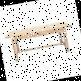Mesa: (3, 21, 75, 62)
